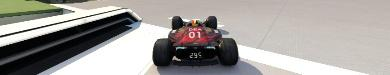Car: (151, 15, 238, 66)
obstacles-Borders: (0, 4, 142, 73)
